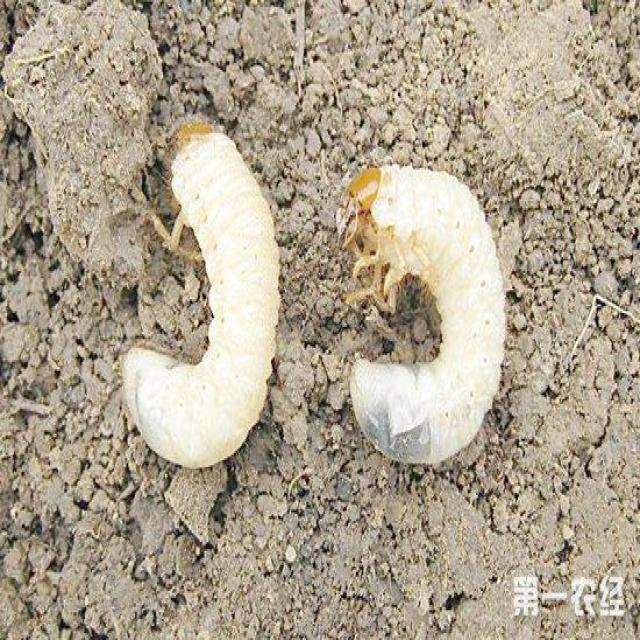Grub-Adult-: (91, 72, 292, 503), (320, 128, 513, 505)
